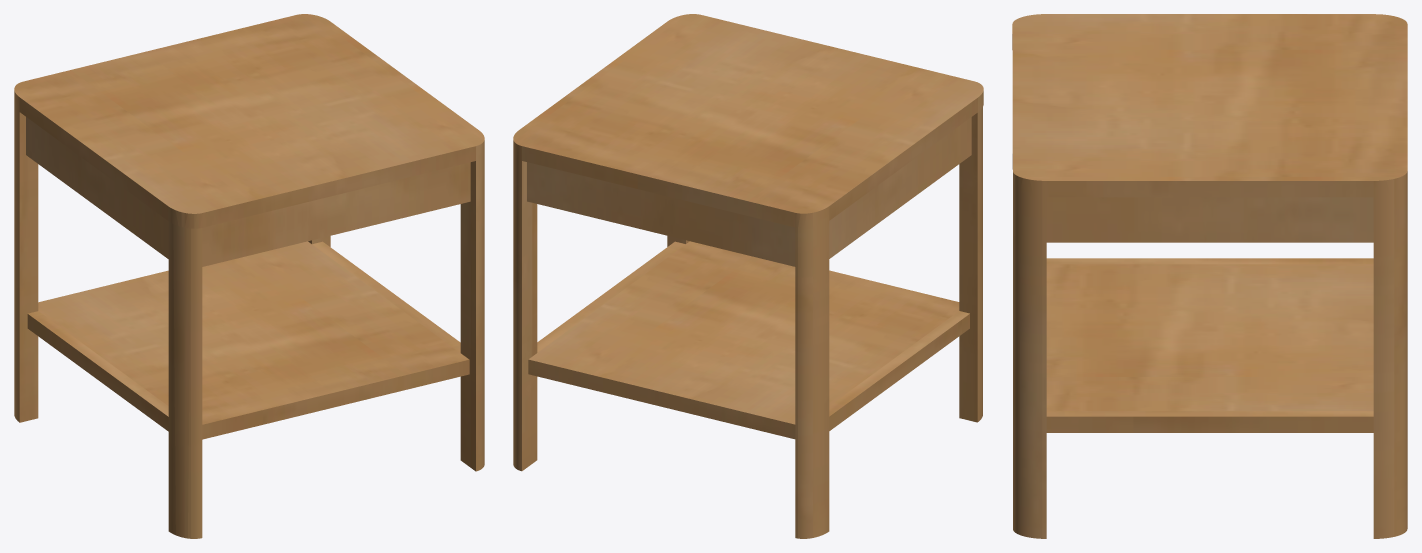
Rendered from sh-contrib-couch-table.glb.
3 views of the same model, side by side, from view 1: azimuth 30°, elevation 25°; view 2: azimuth 150°, elevation 25°; view 3: azimuth 270°, elevation 25° (orthographic). The views are drawn at different scales.
Parts seen in each view (by area): view 1: Mesh1_Model; view 2: Mesh1_Model; view 3: Mesh1_Model.
Boxes of the visible parts, x1,y1,x2,y2 form: Mesh1_Model: [14, 14, 484, 538]; Mesh1_Model: [513, 14, 983, 538]; Mesh1_Model: [1012, 14, 1407, 538].
Bounding box in the file's own units: 1 × 1 × 1.
1 material, 1 textured.
